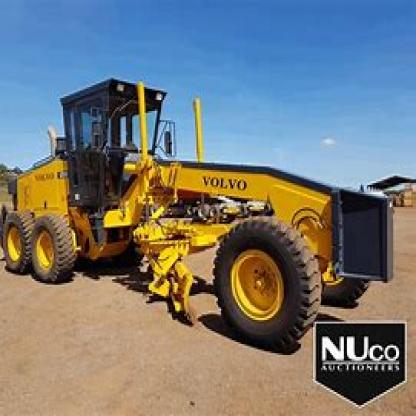bull_dozer/loader/grader: (6, 72, 404, 357)
